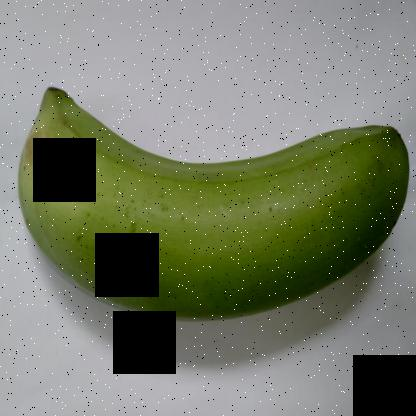freshunripe: (6, 75, 415, 338)
